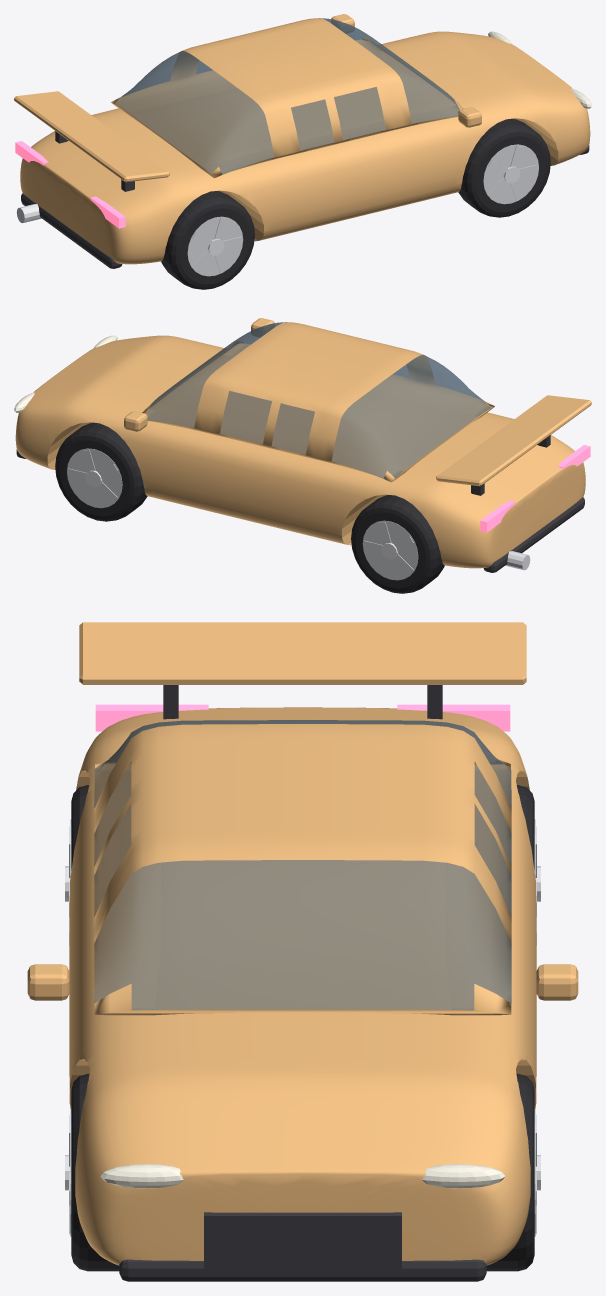
File: boulevard_gt.fbx
3 renders of one model, top to bottom at view 1: azimuth 30°, elevation 25°; view 2: azimuth 150°, elevation 25°; view 3: azimuth 270°, elevation 25°, orthographic. The views are drawn at different scales.
Visible parts, largest first — view 1: Body.007, Glass.007, Tire.007, Rim.007, Trim.007, TailLight.007, Chrome.007; view 2: Body.007, Glass.007, Tire.007, Rim.007, Trim.007, TailLight.007, Chrome.007; view 3: Body.007, Glass.007, Trim.007, Tire.007, HeadLight.007, TailLight.007, Rim.007.
Boxes of the visible parts, box(x1,y1,x2,y2) form: Body.007: box(14, 14, 590, 264); Glass.007: box(115, 18, 459, 174); Tire.007: box(161, 118, 550, 289); Rim.007: box(187, 144, 538, 276); Trim.007: box(21, 131, 589, 268); TailLight.007: box(15, 141, 125, 228); Chrome.007: box(16, 166, 520, 255); Body.007: box(15, 318, 591, 568); Glass.007: box(146, 322, 490, 478); Tire.007: box(55, 422, 444, 593); Rim.007: box(67, 448, 418, 580); Trim.007: box(16, 435, 584, 572); TailLight.007: box(480, 445, 590, 532); Chrome.007: box(85, 470, 530, 570); Body.007: box(27, 622, 578, 1265); Glass.007: box(94, 720, 511, 1010); Trim.007: box(119, 685, 486, 1281); Tire.007: box(71, 785, 534, 1271); HeadLight.007: box(100, 1164, 505, 1188); TailLight.007: box(95, 704, 510, 731); Rim.007: box(69, 819, 536, 1236).
Bounding box in the file's own units: 1510 × 458 × 724.
